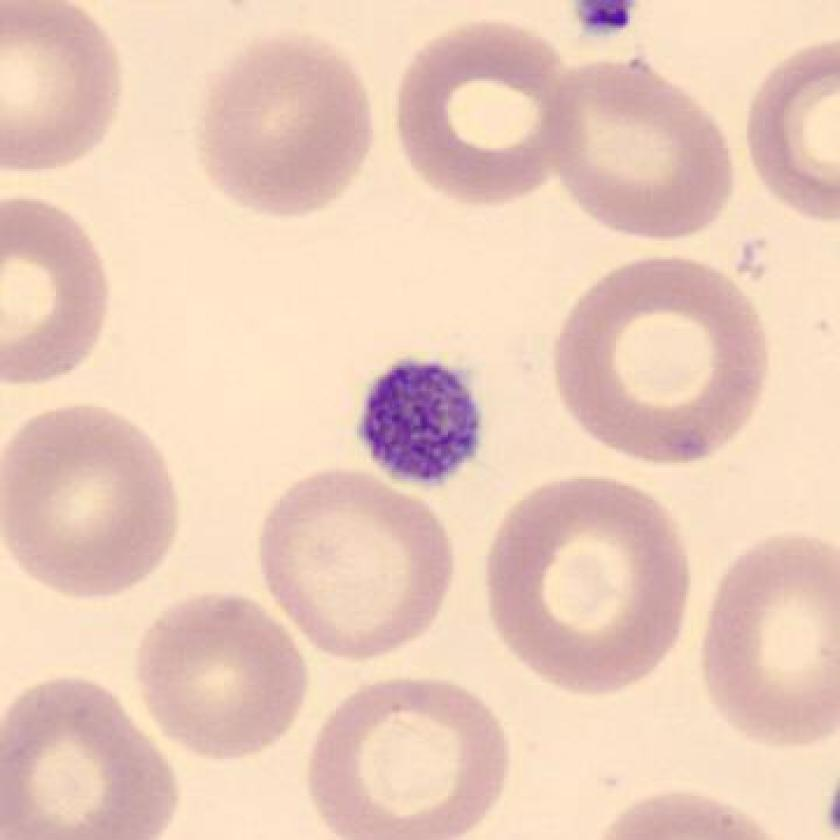platelets: (347, 348, 501, 496)
